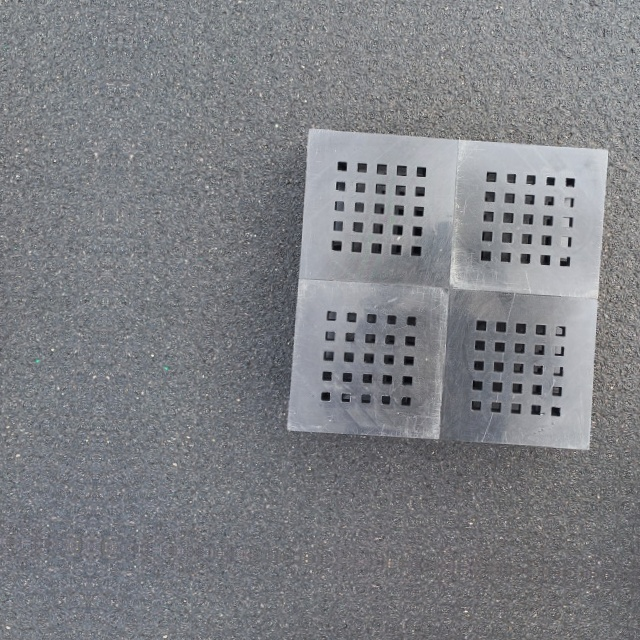pallet: (279, 121, 612, 448)
